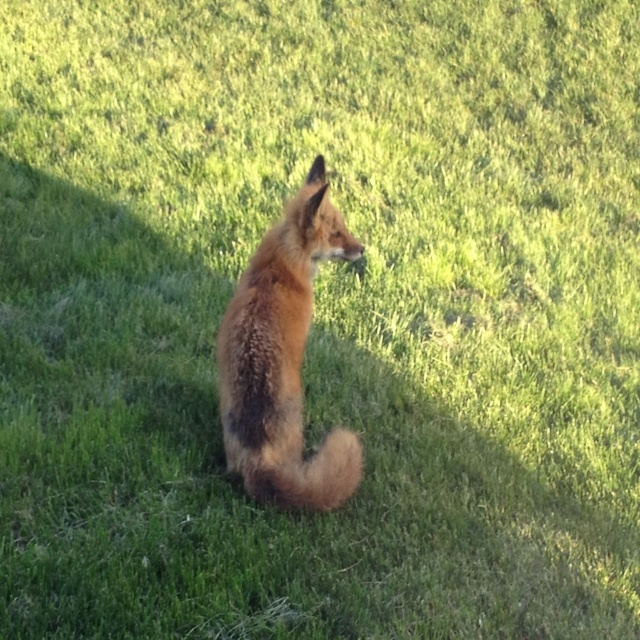Fox: (214, 154, 364, 517)
